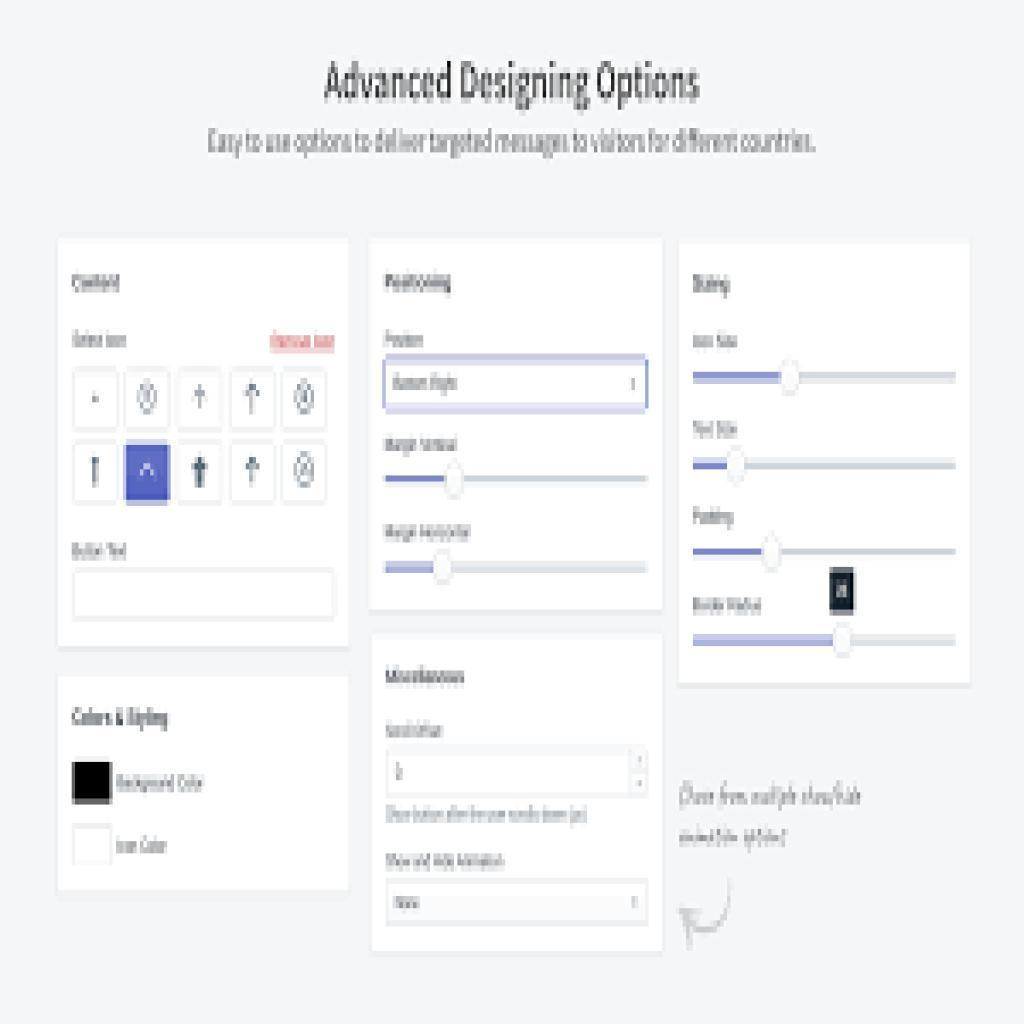dropdown: (384, 353, 649, 417), (385, 879, 651, 928)
icon: (184, 451, 218, 497), (290, 449, 321, 494), (289, 379, 323, 418), (134, 379, 166, 417), (241, 452, 270, 491), (240, 380, 268, 418), (188, 380, 215, 417), (89, 454, 110, 487), (139, 458, 161, 487)
input: (73, 571, 335, 622), (389, 749, 632, 798)
slider: (691, 448, 956, 486), (383, 461, 652, 498), (384, 549, 652, 585), (691, 625, 959, 660), (692, 361, 956, 395), (691, 535, 960, 568)
